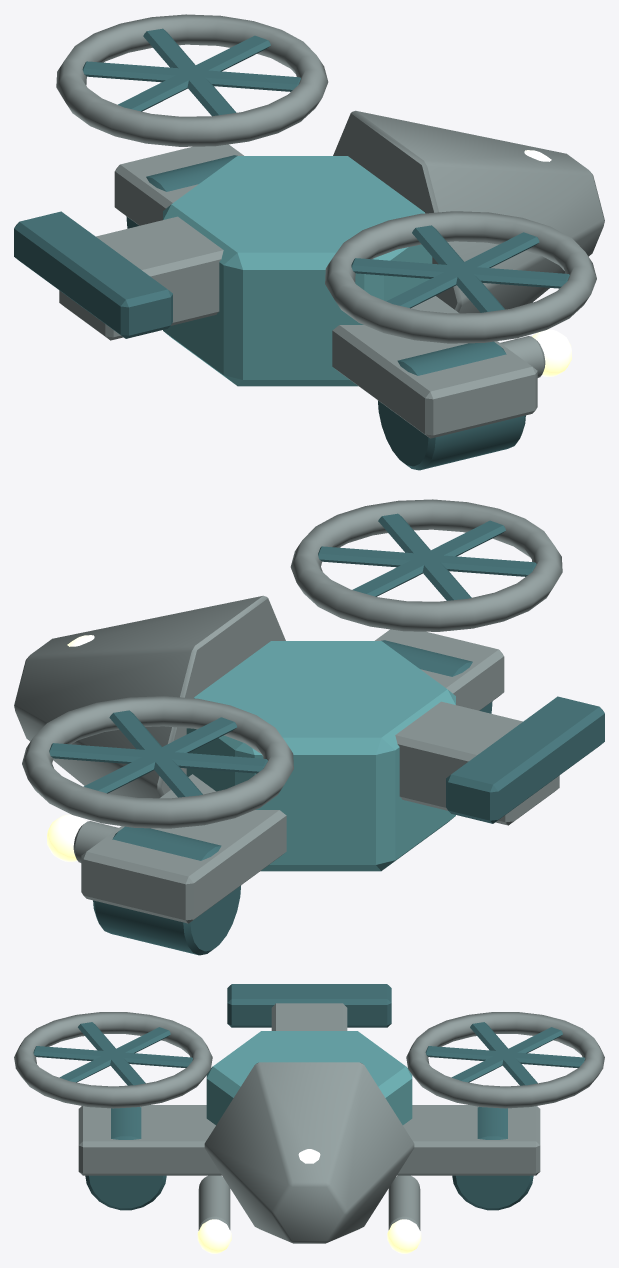
File: enemy_gunship.glb
3 renders of one model, top to bottom at view 1: azimuth 30°, elevation 25°; view 2: azimuth 150°, elevation 25°; view 3: azimuth 270°, elevation 25°, orthographic. The views are drawn at different scales.
Parts seen in each view (by area): view 1: Cylinder, Cone, Torus.001, Torus, Cube.002, Cube.001, Cube, Cylinder.001, Cube.006, Cube.009, Cube.005, Cube.003 (+6 smaller); view 2: Cylinder, Cone, Torus, Torus.001, Cube.006, Cube.001, Cube, Cylinder.003, Cube.002, Cube.003, Cube.007, Cube.004 (+6 smaller); view 3: Cone, Torus, Torus.001, Cube.002, Cube.006, Cylinder, Cube.001, Cylinder.001, Cylinder.003, Cube, Cube.008, Cube.004 (+8 smaller).
Boxes of the visible parts, x1,y1,x2,y2 form: Cylinder: (163,156,432,386); Cone: (333,110,604,313); Torus.001: (56,14,328,146); Torus: (325,211,596,343); Cube.002: (332,296,537,438); Cube.001: (14,211,172,338); Cube: (59,216,223,340); Cylinder.001: (378,341,525,470); Cube.006: (114,144,243,225); Cube.009: (82,61,300,91); Cube.005: (351,258,569,288); Cube.003: (386,232,539,308); Cylinder: (186,641,455,871); Cone: (14,595,285,798); Torus: (290,499,562,631); Torus.001: (22,696,293,828); Cube.006: (81,774,286,923); Cube.001: (446,696,604,823); Cube: (395,701,559,825); Cylinder.003: (93,826,240,955); Cube.002: (375,629,504,710); Cube.003: (318,546,536,576); Cube.007: (49,743,267,773); Cube.004: (352,520,505,596); Cone: (204,1062,414,1243); Torus: (14,1012,212,1108); Torus.001: (406,1012,604,1108); Cube.002: (78,1105,221,1175); Cube.006: (397,1105,540,1175); Cylinder: (206,1031,412,1124); Cube.001: (227,984,391,1027); Cylinder.001: (85,1107,166,1210); Cylinder.003: (452,1107,533,1210); Cube: (271,1003,347,1030); Cube.008: (425,1046,585,1067); Cube.004: (33,1046,192,1068).
Size of the model in its own units: 1.37 by 0.582 by 1.87.
